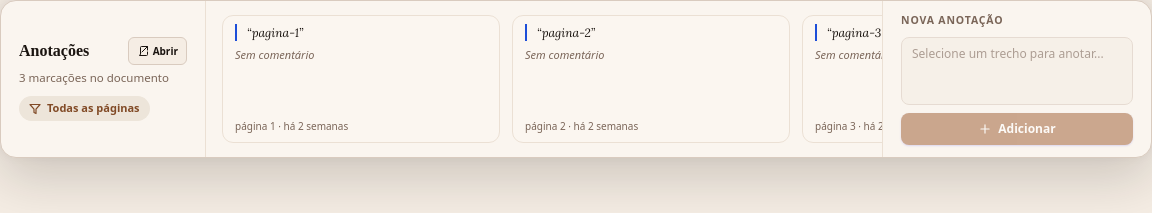
ReaderAnnotationsDock › alterna os escopos e atualiza o texto e o rotulo acessivel do botao
Click the button "Todas as páginas" at (84, 109), box [19, 96, 150, 121]
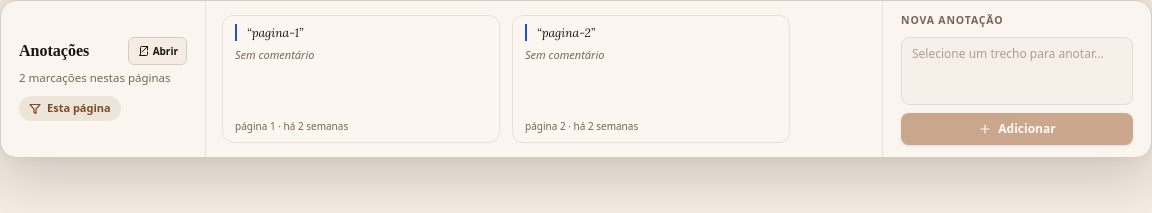
Now the button "Esta página" is shown
Click the button "Esta página" at (70, 109), box [19, 96, 121, 121]
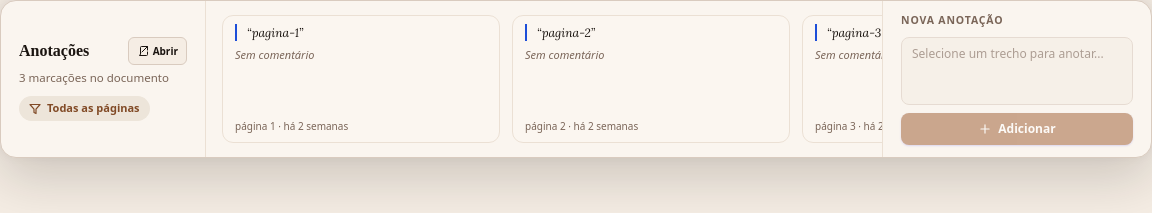
Now the button "Todas as páginas" is shown, box [19, 96, 150, 121]
